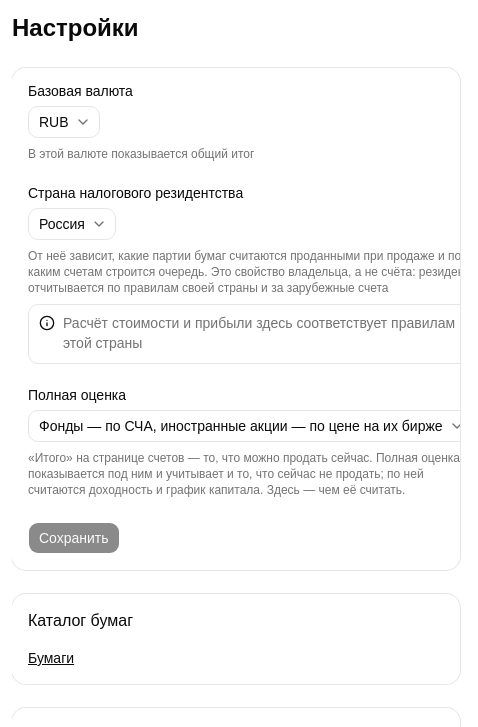
Test case: SettingsPage › tax residency › offers exactly the countries the server sent, by name
Click the dropdown named "Страна налогового резидентства": [72, 224] box [28,208,116,240]
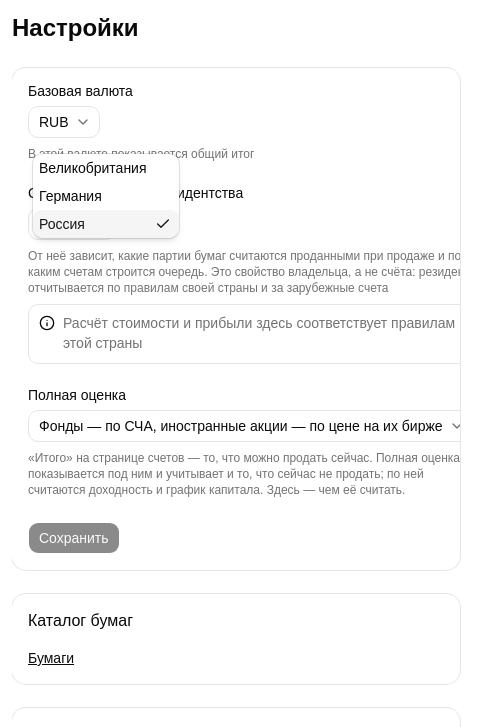
Expected: the options read "Великобритания", "Германия", "Россия", in this order, [39,160,146,176]; [39,188,102,204]; [33,210,178,238]
